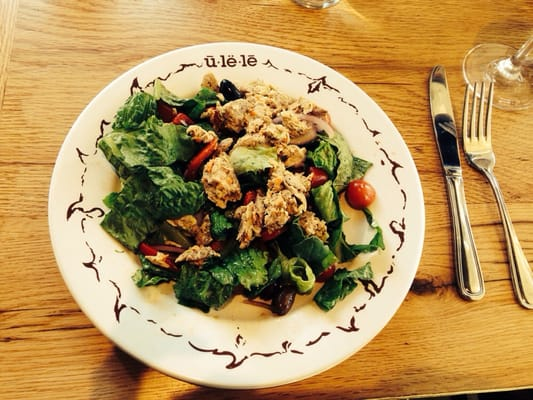burger: (462, 75, 533, 308), (423, 66, 486, 304)
curry: (96, 91, 206, 250), (102, 164, 206, 252), (98, 92, 193, 172), (173, 247, 270, 311)
sandwich: (427, 64, 485, 305)
